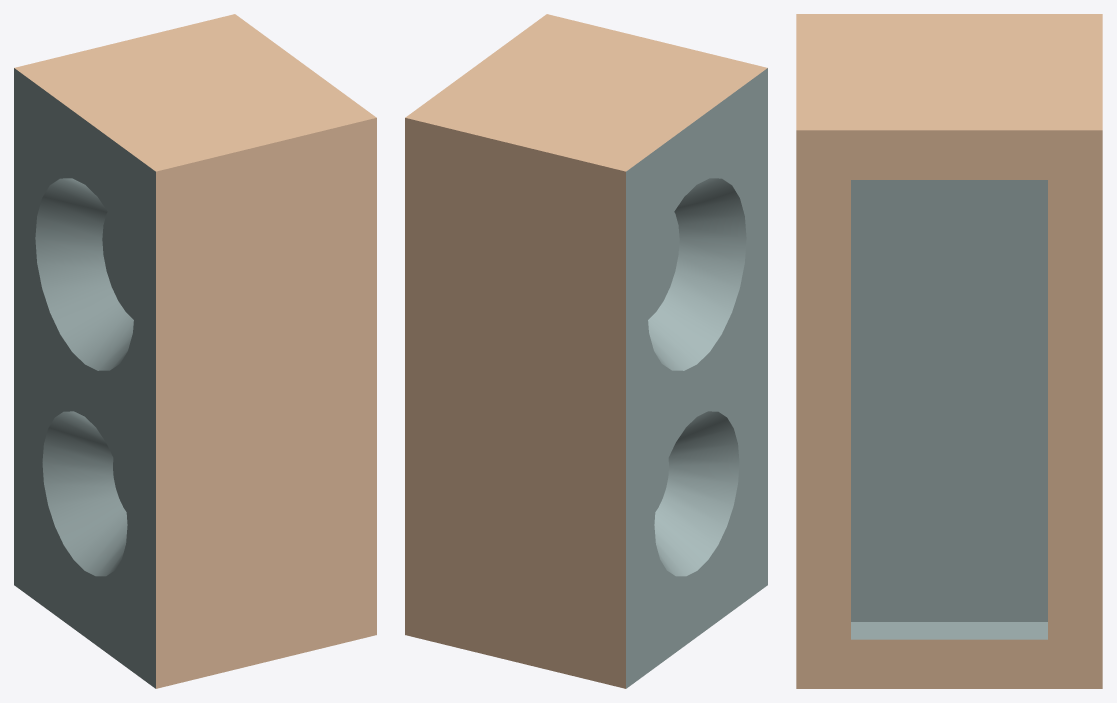
The model's file is speakerSmall.fbx.
The picture shows the model from 3 angles, left to right: view 1: azimuth 30°, elevation 25°; view 2: azimuth 150°, elevation 25°; view 3: azimuth 270°, elevation 25°; orthographic projection. The views are drawn at different scales.
Parts seen in each view (by area): view 1: speakerSmall; view 2: speakerSmall; view 3: speakerSmall.
Boxes of the visible parts, bbox=[...] form: speakerSmall: bbox=[14, 14, 376, 688]; speakerSmall: bbox=[405, 14, 767, 688]; speakerSmall: bbox=[796, 14, 1102, 688].
Bounding box in the file's own units: 133 × 298 × 148.
